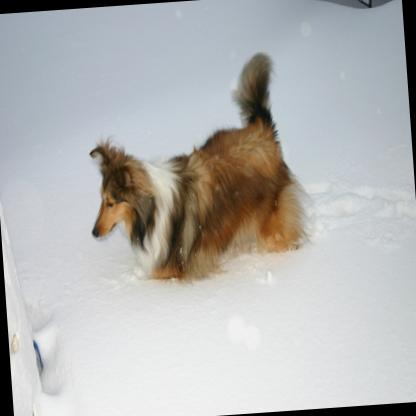Shetland_sheepdog: (77, 48, 313, 284)
